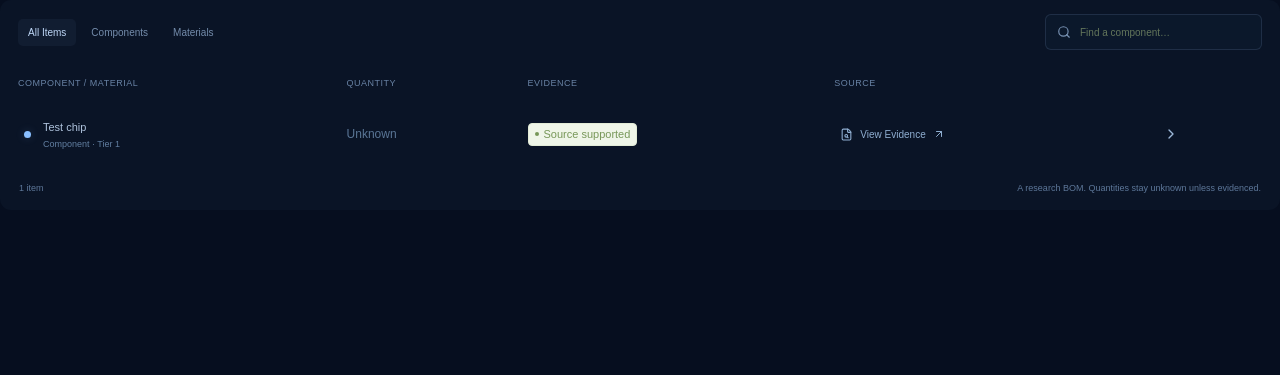
Test: product to BOM › keeps unknown quantities explicit and lets a component open its evidence
Check: the text "Unknown" is shown, box [346,127,396,141]
Click the button named "Inspect Test chip" at (1171, 134), box [1155,118,1187,150]
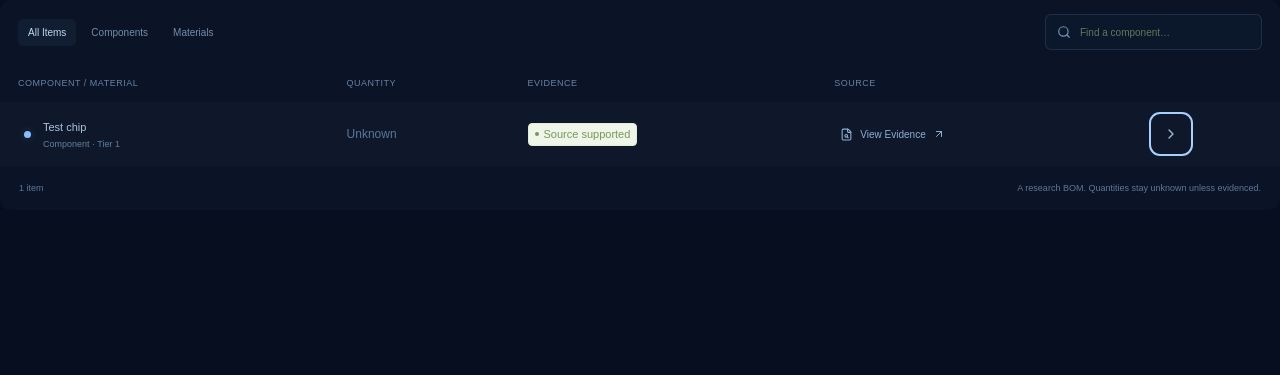
Type "unrelated" into the field labelled "Find a component" at (1165, 32), box [1080,18,1250,46]
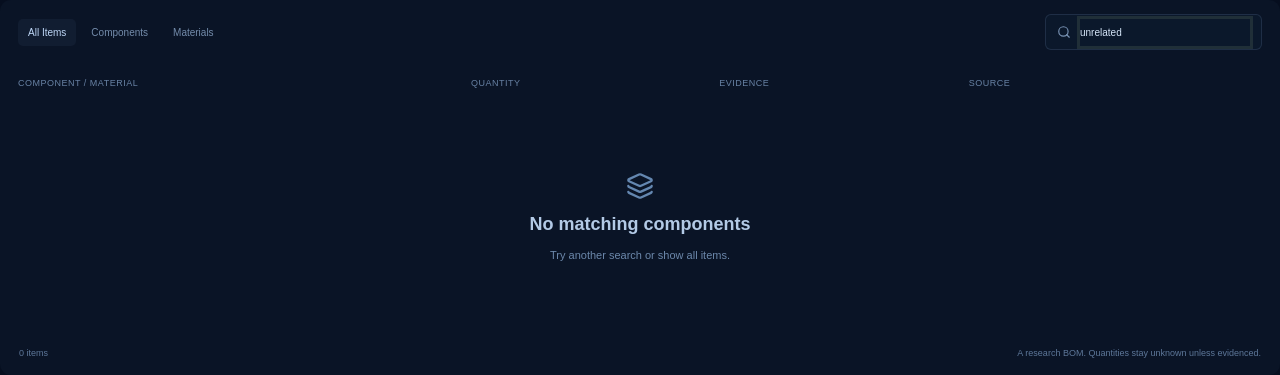
Check: the heading "No matching components" is shown, box [530,214,750,235]
